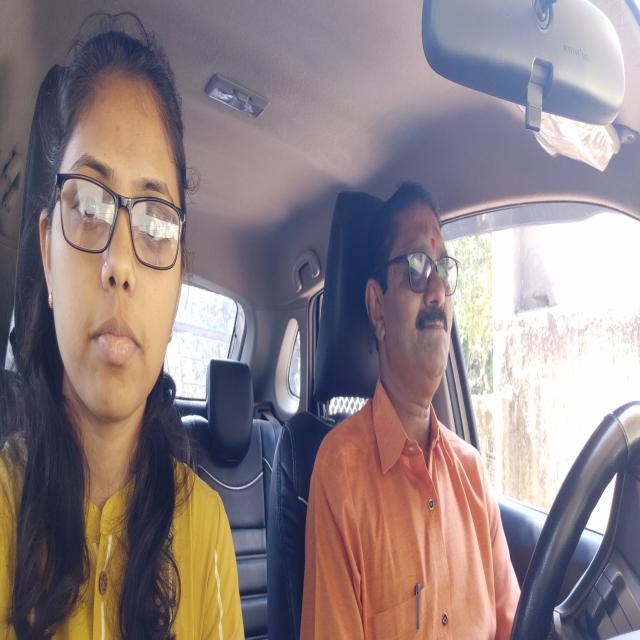person: (25, 24, 190, 436), (362, 168, 460, 420)
